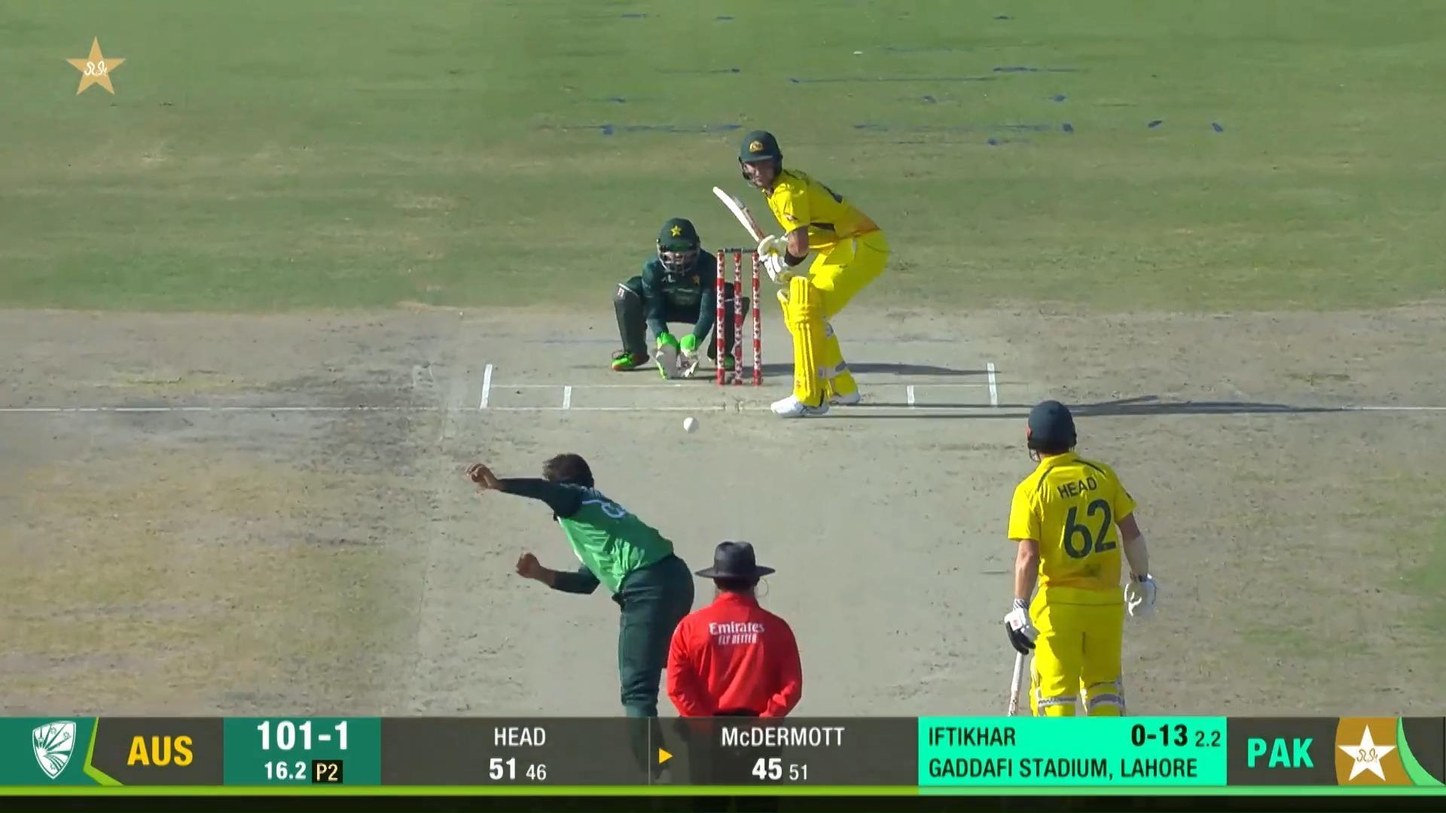BM 1: (712, 130, 888, 419)
BO: (466, 448, 728, 808)
